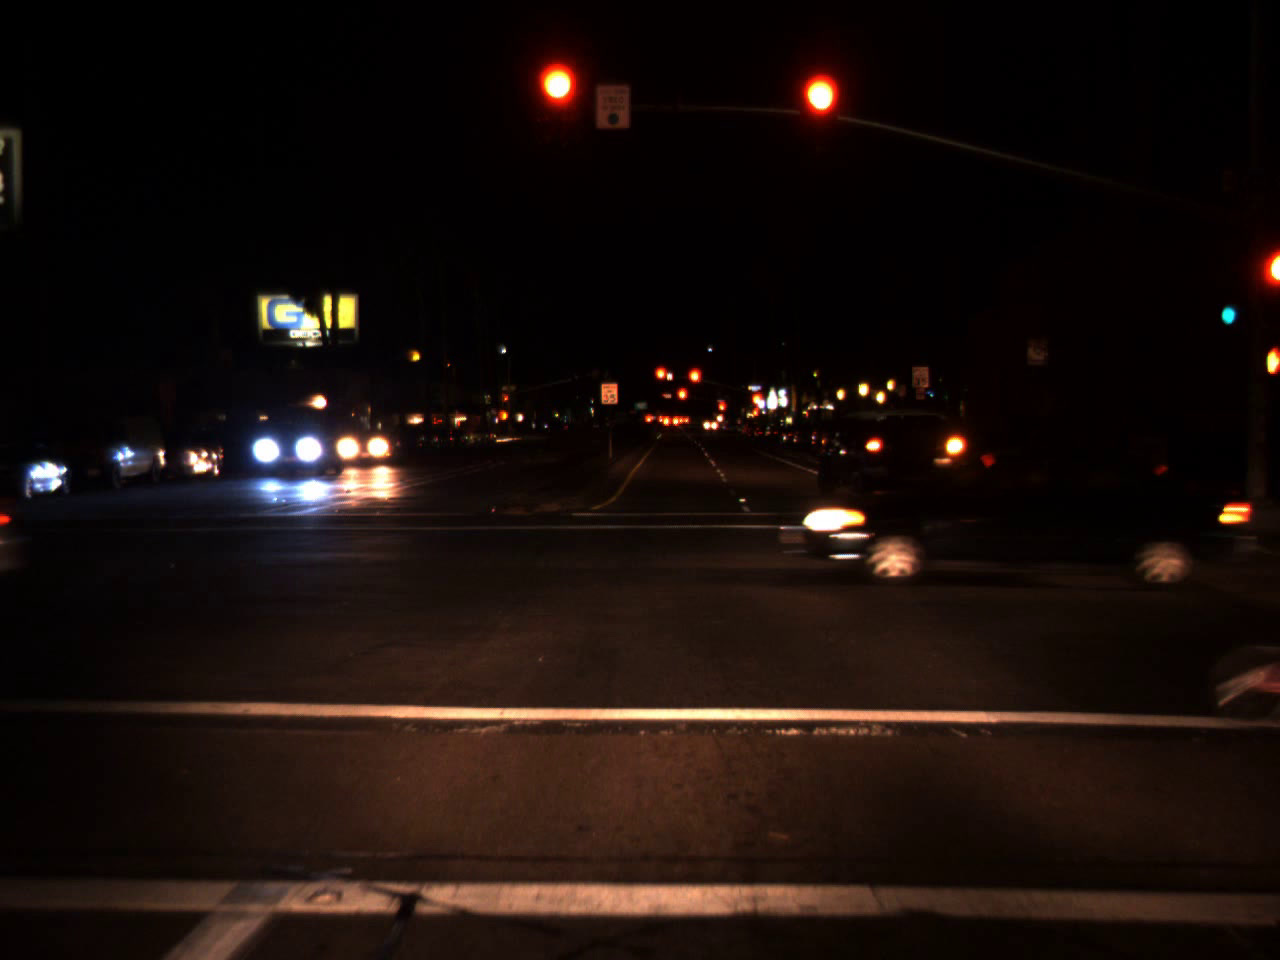stop: (539, 64, 578, 142), (801, 74, 837, 152), (686, 367, 702, 399), (653, 365, 671, 392), (676, 386, 688, 413), (751, 394, 761, 415), (717, 400, 727, 418), (503, 395, 509, 405)
